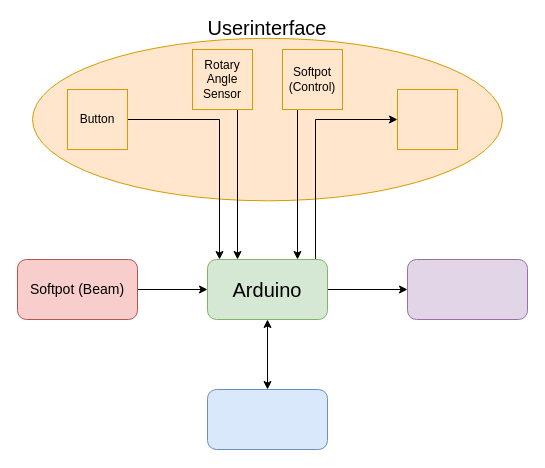
Image size: 545x468. Some labels were removed from this diagram. The shapes that lost their labels are listed below. From the top down, each one's centre as x and y in pixels, then its label:
At (427,119): "Neopixels".
At (467,289): "Servo Motor".
At (267,419): "Simulink Controller".
